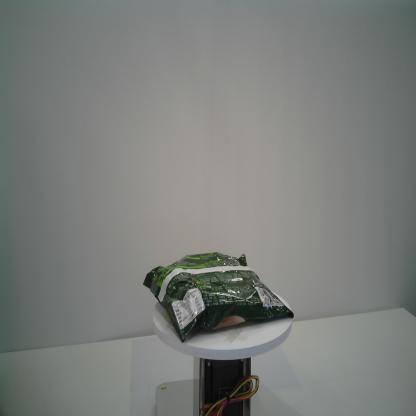Instant Noodles: (142, 249, 295, 344)
